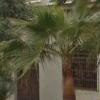Palm tree: (7, 8, 68, 57)
